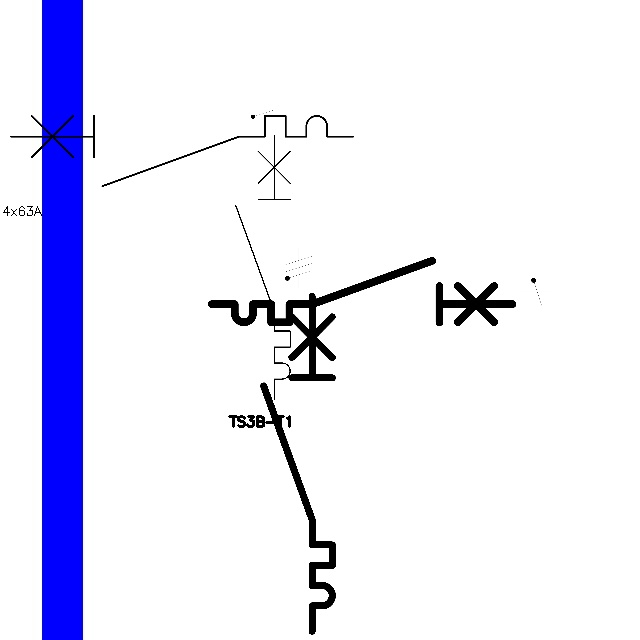interruptor_termomagnetico: (2, 107, 362, 195), (255, 287, 341, 639), (204, 253, 520, 330), (229, 128, 297, 405)
